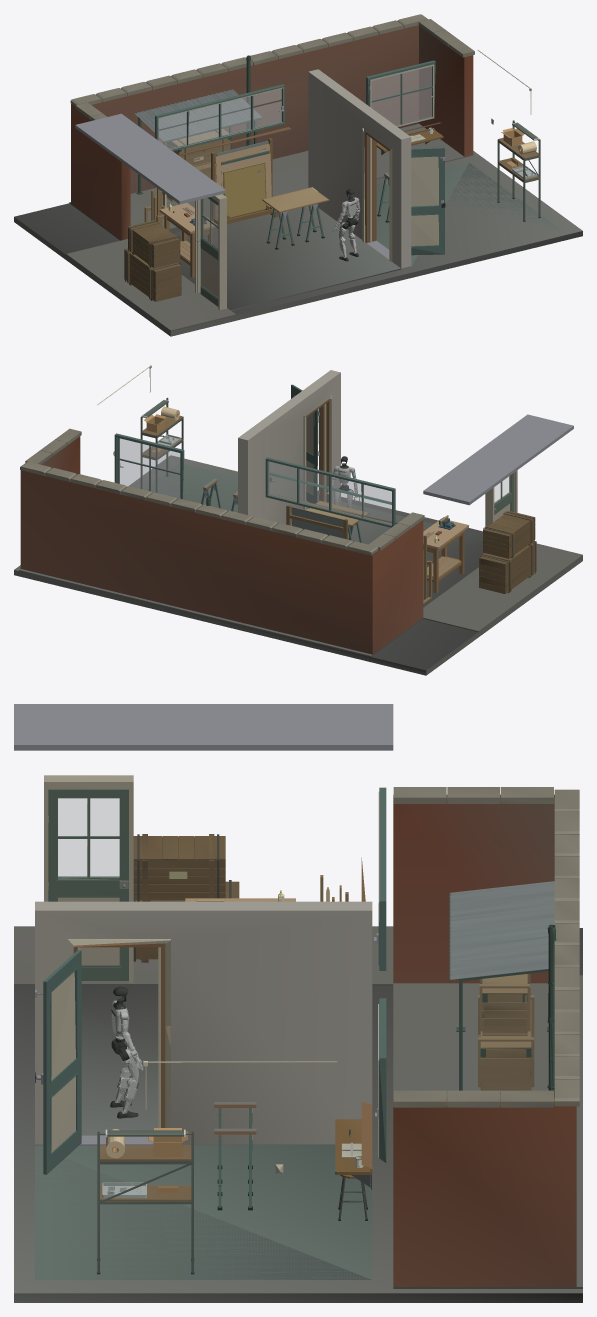
Rendered from mini.glb.
3 renders of one model, top to bottom at view 1: azimuth 30°, elevation 25°; view 2: azimuth 150°, elevation 25°; view 3: azimuth 270°, elevation 25°, orthographic. The views are drawn at different scales.
Parts seen in each view (by area): view 1: part/building_floors/court_paving, part/court_fixtures/coping, part/building_floors/threshold, part/office_window/glass, part/panel/top_skin; view 2: part/court_fixtures/coping, part/building_floors/court_paving, part/office_window/glass, part/building_floors/threshold; view 3: part/building_floors/court_paving, part/court_fixtures/coping, part/building_floors/threshold, part/office_window/glass.
Part boxes in pixels (left/top/right/bottom): part/building_floors/court_paving: left=14, top=60, right=582, bottom=336; part/court_fixtures/coping: left=70, top=14, right=537, bottom=277; part/building_floors/threshold: left=75, top=86, right=540, bottom=300; part/office_window/glass: left=159, top=66, right=431, bottom=248; part/panel/top_skin: left=263, top=187, right=327, bottom=211; part/court_fixtures/coping: left=20, top=365, right=468, bottom=654; part/building_floors/court_paving: left=14, top=370, right=582, bottom=675; part/office_window/glass: left=119, top=438, right=509, bottom=524; part/building_floors/threshold: left=120, top=399, right=573, bottom=593; part/building_floors/court_paving: left=14, top=775, right=582, bottom=1302; part/court_fixtures/coping: left=102, top=787, right=579, bottom=1286; part/building_floors/threshold: left=14, top=704, right=393, bottom=1274; part/office_window/glass: left=58, top=798, right=119, bottom=877.
Size of the model in its own units: 8.2 by 2.57 by 5.4.
